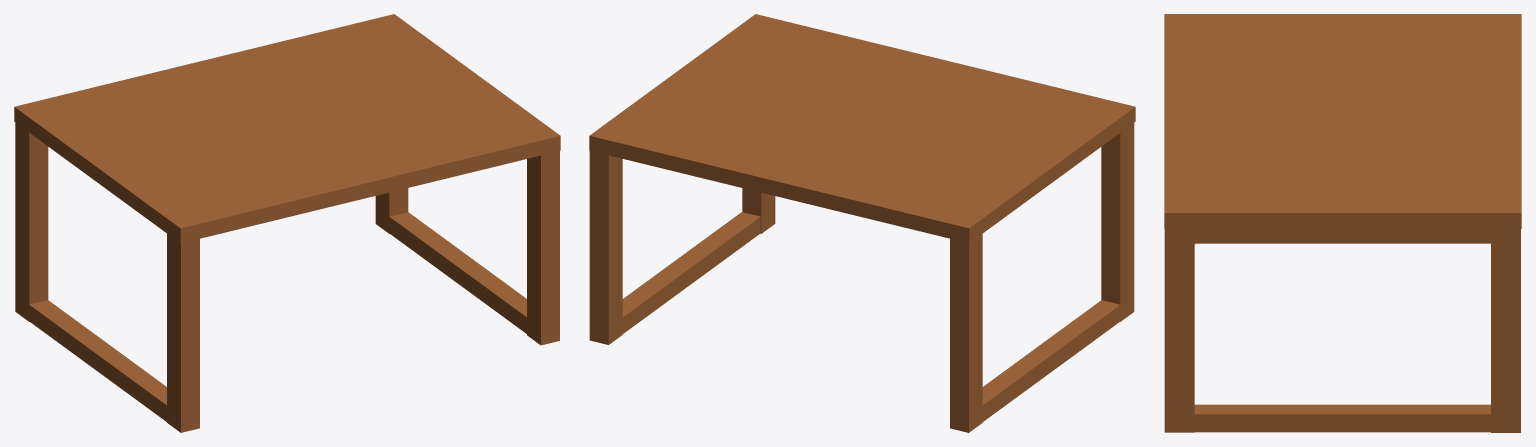
Rendered from desk.glb.
The picture shows the model from 3 angles, left to right: view 1: azimuth 30°, elevation 25°; view 2: azimuth 150°, elevation 25°; view 3: azimuth 270°, elevation 25°; orthographic projection. The views are drawn at different scales.
Parts seen in each view (by area): view 1: table_main, table_foot2, table_foot1, table_foot3, table_foot5, table_foot6, table_foot4; view 2: table_main, table_foot4, table_foot3, table_foot2, table_foot6, table_foot5, table_foot1; view 3: table_main, table_foot6, table_foot1, table_foot4, table_foot5.
Boxes of the visible parts, x1,y1,x2,y2 form: table_main: (14, 14, 560, 243); table_foot2: (167, 234, 199, 432); table_foot1: (527, 151, 559, 345); table_foot3: (15, 122, 48, 321); table_foot5: (29, 300, 166, 421); table_foot6: (389, 212, 526, 333); table_foot4: (375, 188, 408, 233); table_main: (589, 14, 1135, 243); table_foot4: (589, 151, 622, 344); table_foot3: (950, 234, 982, 432); table_foot2: (1101, 123, 1134, 321); table_foot6: (622, 212, 760, 334); table_foot5: (982, 300, 1120, 422); table_foot1: (742, 188, 775, 233); table_main: (1164, 14, 1521, 228); table_foot6: (1194, 404, 1490, 432); table_foot1: (1164, 229, 1194, 432); table_foot4: (1491, 229, 1520, 432); table_foot5: (1194, 229, 1490, 243).
Bounding box in the file's own units: 2.64 × 1.36 × 2.
